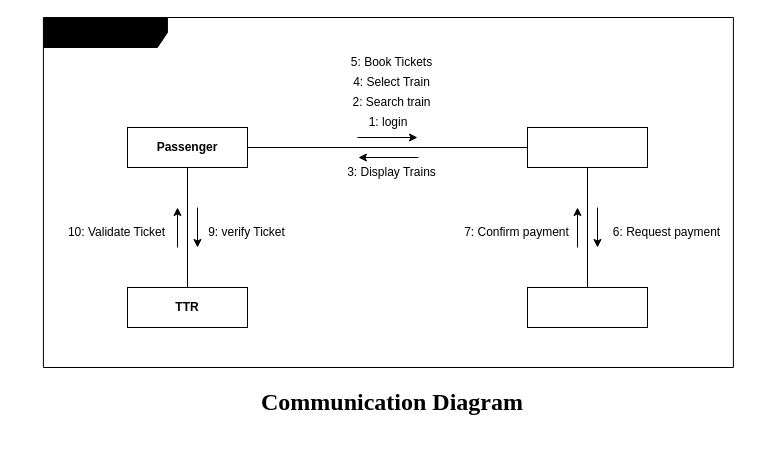
Image size: 784x450. Some labels were removed from this diagram. Each missing label, with the centre of its shape:
Payment: point 587,307
Railway Management: point 587,147
